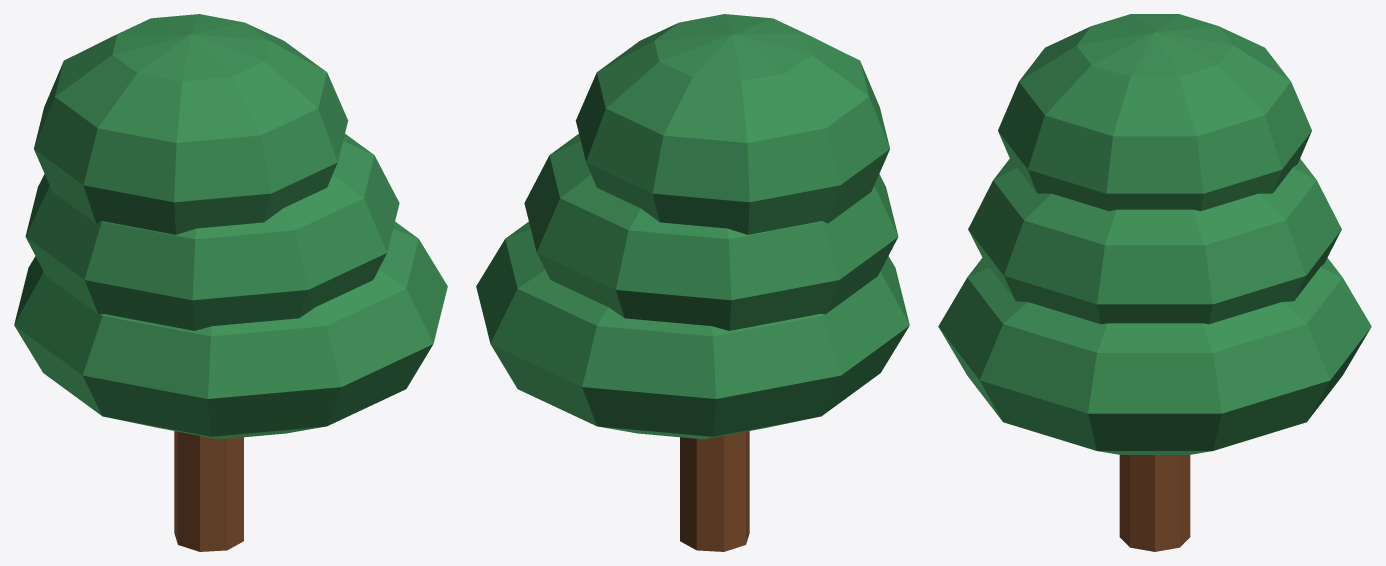
The model's file is ENV_Greenwood_Tree_C_V1.glb.
3 renders of one model, left to right at view 1: azimuth 30°, elevation 25°; view 2: azimuth 150°, elevation 25°; view 3: azimuth 270°, elevation 25°, orthographic. The views are drawn at different scales.
Parts seen in each view (by area): view 1: Canopy_2, Canopy_0, Canopy_1, Trunk; view 2: Canopy_2, Canopy_0, Canopy_1, Trunk; view 3: Canopy_0, Canopy_2, Canopy_1, Trunk.
Boxes of the visible parts, <box> form: Canopy_2: <box>34,14,348,234</box>; Canopy_0: <box>14,221,447,439</box>; Canopy_1: <box>25,134,399,330</box>; Trunk: <box>174,431,243,551</box>; Canopy_2: <box>575,14,889,234</box>; Canopy_0: <box>476,221,909,439</box>; Canopy_1: <box>524,134,898,330</box>; Trunk: <box>680,431,749,551</box>; Canopy_0: <box>938,258,1371,454</box>; Canopy_2: <box>998,14,1311,211</box>; Canopy_1: <box>968,159,1341,324</box>; Trunk: <box>1119,455,1190,551</box>.
Size of the model in its own units: 7.61 by 10.1 by 8.
